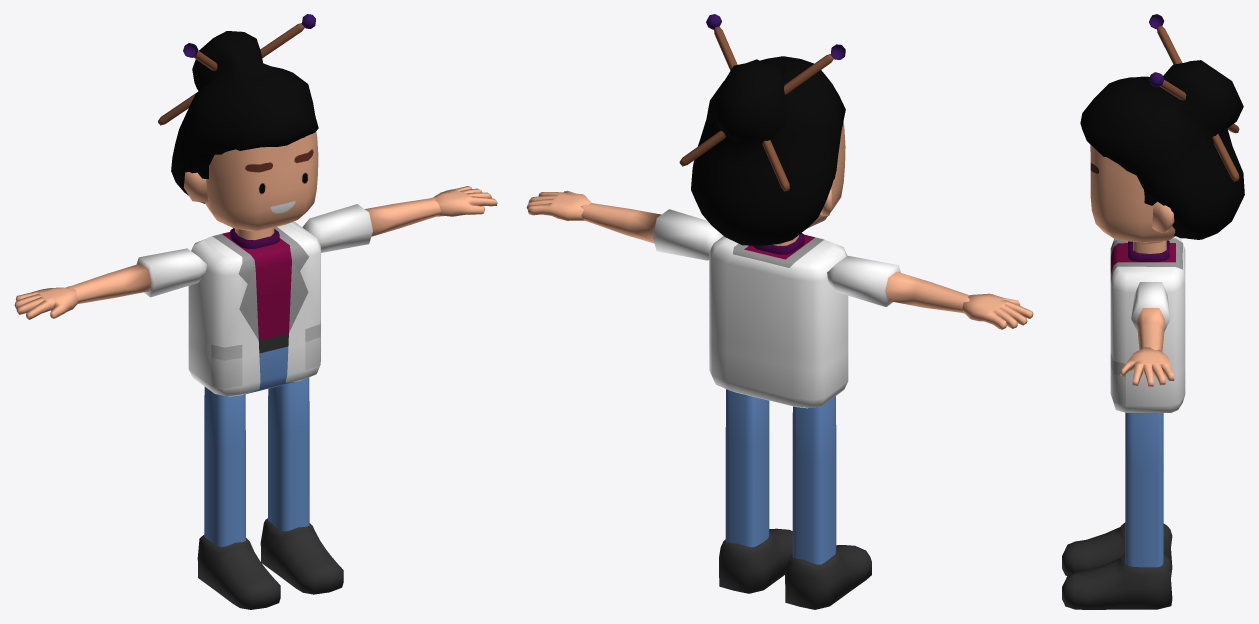
The model's file is NPC_White02_BlackHair03.gltf.
3 renders of one model, left to right at view 1: azimuth 30°, elevation 25°; view 2: azimuth 150°, elevation 25°; view 3: azimuth 270°, elevation 25°, orthographic. The views are drawn at different scales.
Parts seen in each view (by area): view 1: NPC_Corpo_White2_BlackHair.003; view 2: NPC_Corpo_White2_BlackHair.003; view 3: NPC_Corpo_White2_BlackHair.003.
Part boxes in pixels (x1,y1,x2,y2): NPC_Corpo_White2_BlackHair.003: [14, 14, 497, 609]; NPC_Corpo_White2_BlackHair.003: [526, 14, 1033, 609]; NPC_Corpo_White2_BlackHair.003: [1062, 14, 1244, 609].
Bounding box in the file's own units: 2.31 × 2.5 × 0.7676.
Materials: 1 (1 with a texture image).
